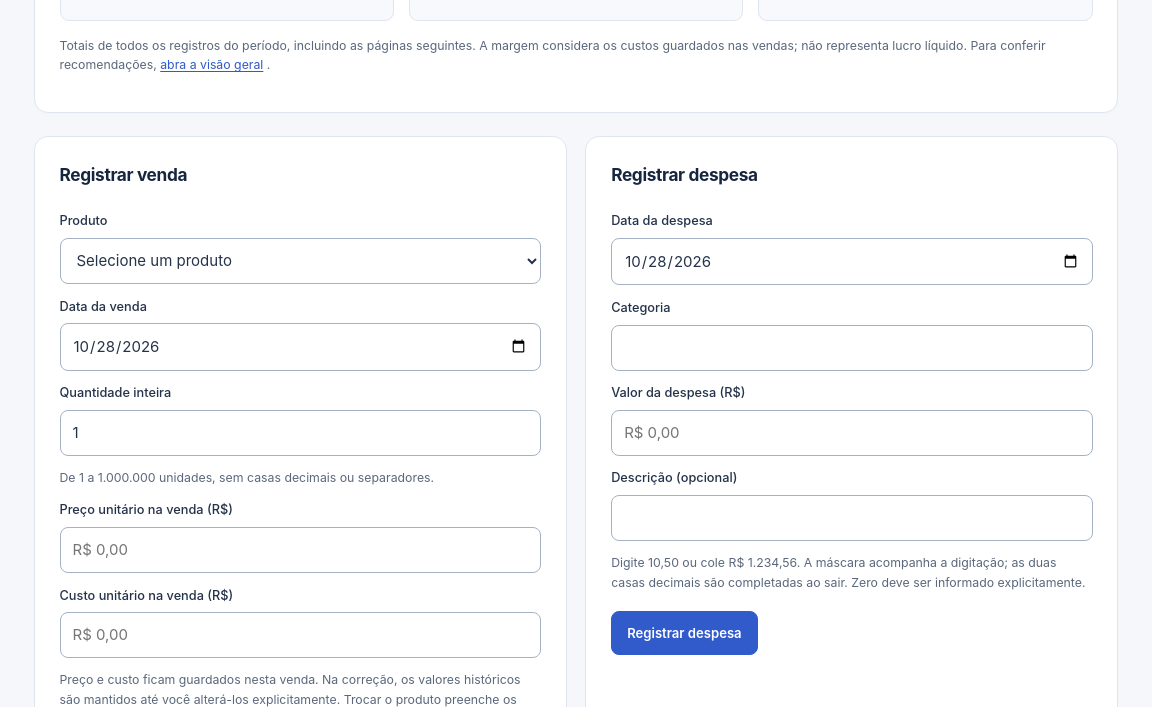
it: interface de registros do período › mantém formulário em falha de gravação, permite recarga e valida período
(page scrolled)
In the field with id "expense-category": coordinates (852, 348) [611, 324, 1092, 370], type "Aluguel"
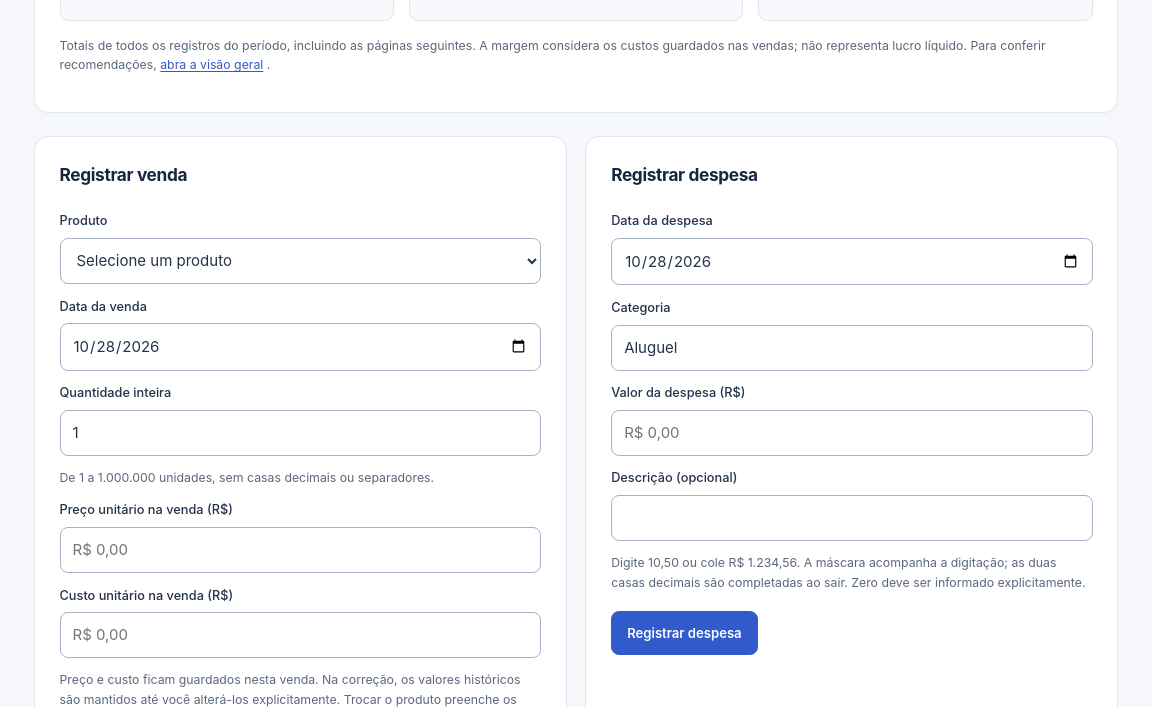
In the field with id "expense-amount": coordinates (852, 433) [611, 410, 1092, 456], type "10,00"
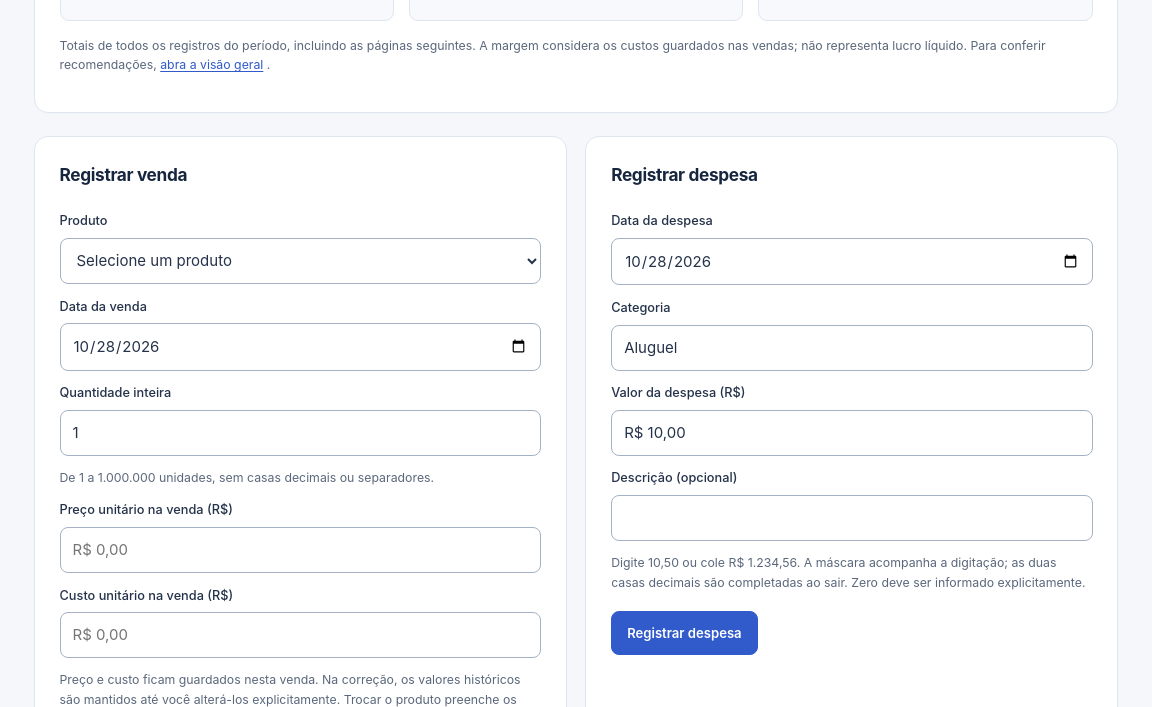
Submit the form that starts with "Registrar despesa", box [611, 161, 1092, 655]
(page scrolled)
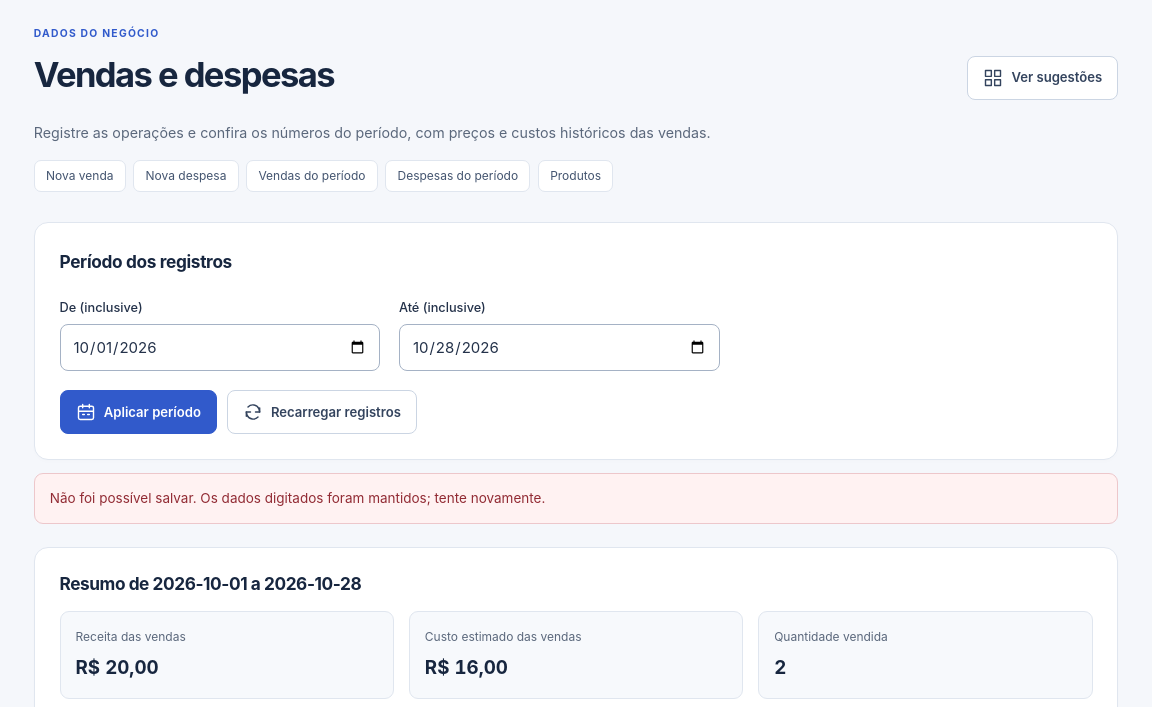
Result: the message "Não foi possível salvar. Os dados digitados foram mantidos; tente novamente." is shown at [34, 474, 1118, 524]
In the date field labelled "De (inclusive)": coordinates (220, 348) [60, 324, 380, 372], type "2026-11-01"
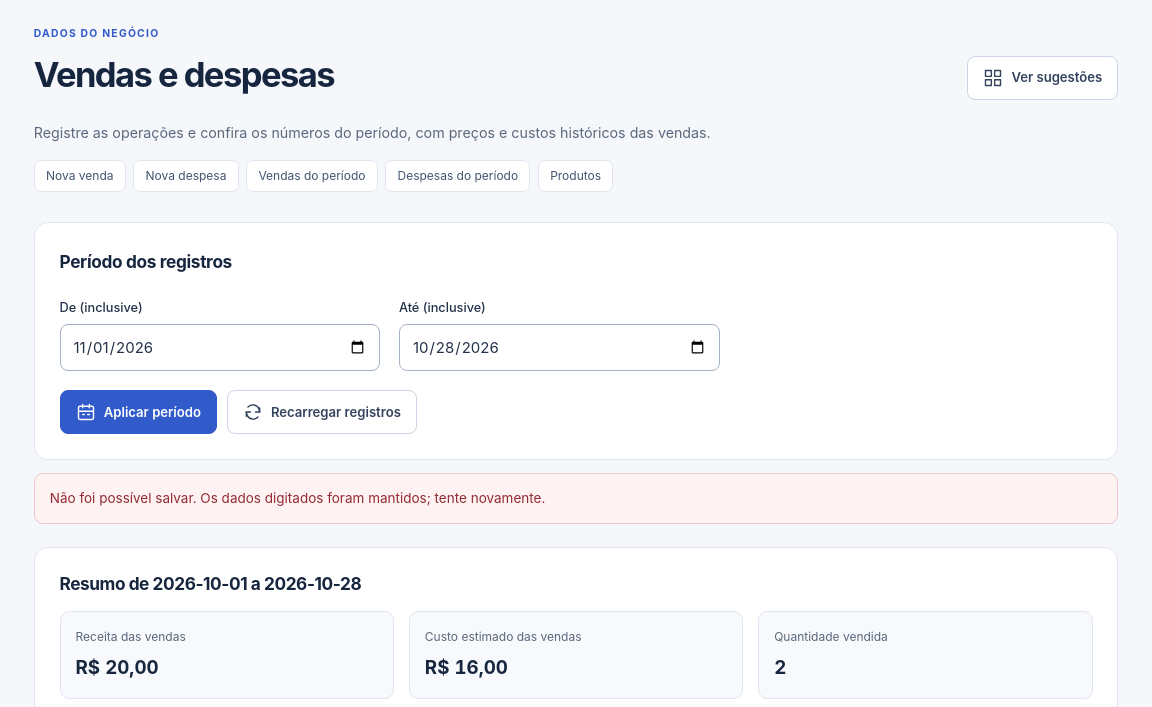
In the date field labelled "Até (inclusive)": coordinates (559, 348) [399, 324, 720, 372], type "2026-10-01"
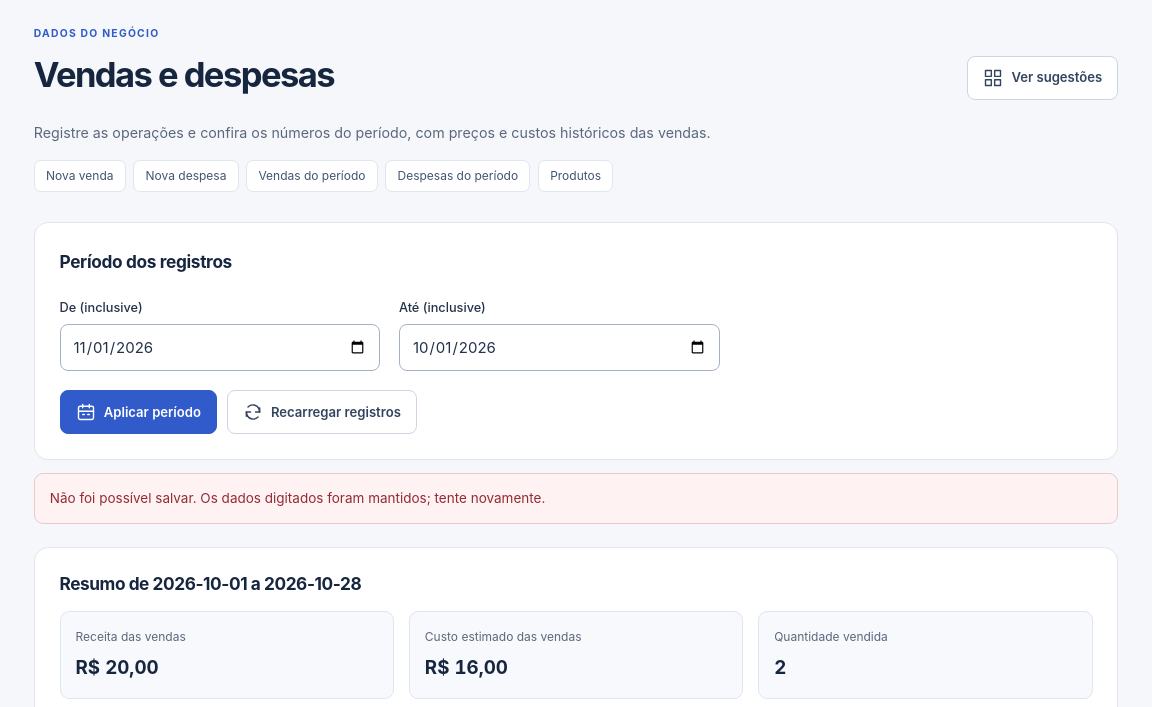
Submit the form named "Período dos registros", box [34, 222, 1118, 460]
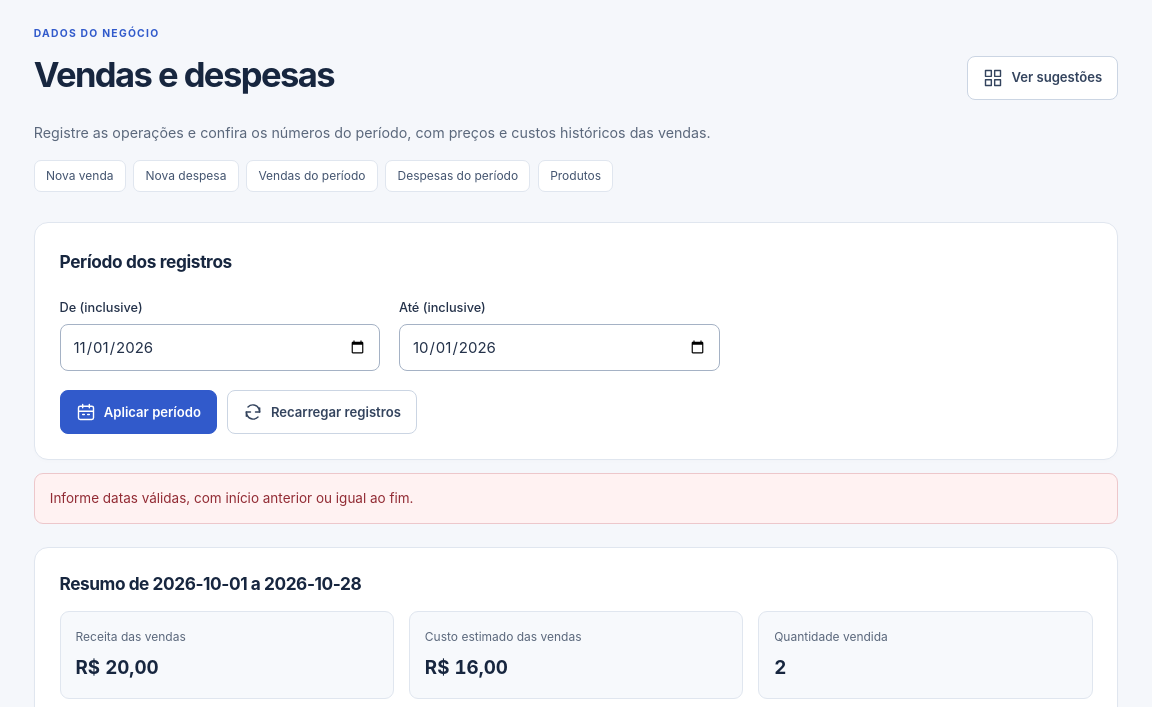
Result: the message "Informe datas válidas, com início anterior ou igual ao fim." is shown at [34, 474, 1118, 524]
